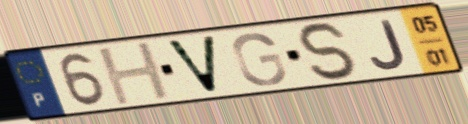6: (57, 51, 108, 108)
G: (230, 31, 289, 88)
H: (93, 39, 175, 108)
J: (368, 17, 409, 71)
S: (294, 20, 364, 83)
V: (162, 34, 221, 96)
